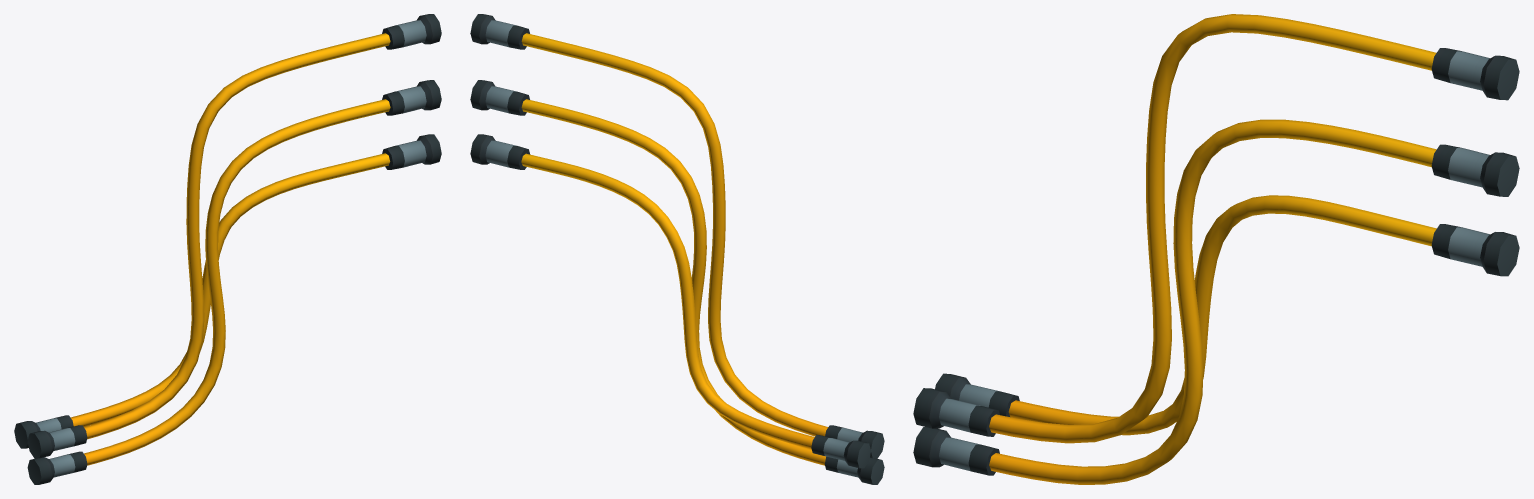
The model's file is Cable_type_C_008.glb.
The picture shows the model from 3 angles, left to right: view 1: azimuth 30°, elevation 25°; view 2: azimuth 150°, elevation 25°; view 3: azimuth 330°, elevation 25°; orthographic projection. The views are drawn at different scales.
Visible parts, largest first — view 1: Cable_type_C_008; view 2: Cable_type_C_008; view 3: Cable_type_C_008.
Boxes of the visible parts, x1,y1,x2,y2 form: Cable_type_C_008: (14,14,441,484); Cable_type_C_008: (470,14,884,484); Cable_type_C_008: (913,14,1519,484).
Bounding box in the file's own units: 1.31 × 1.17 × 0.1595.
Materials: 1 (1 with a texture image).
